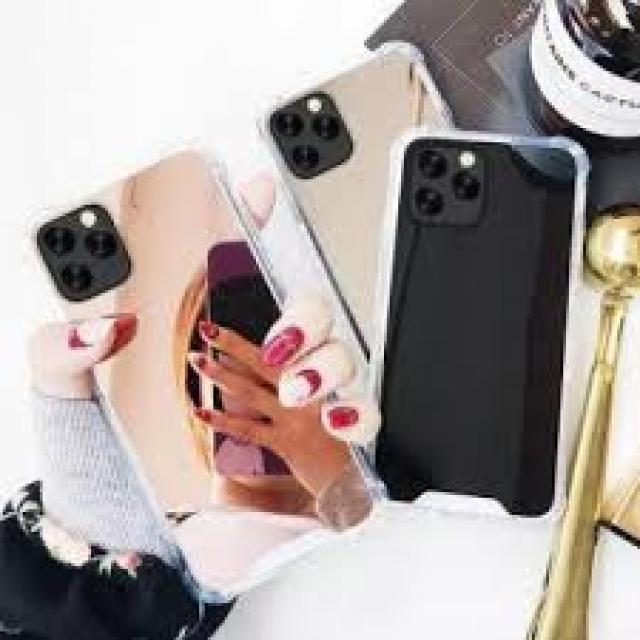Phone: (26, 140, 386, 606), (372, 125, 590, 520), (255, 45, 458, 372)
